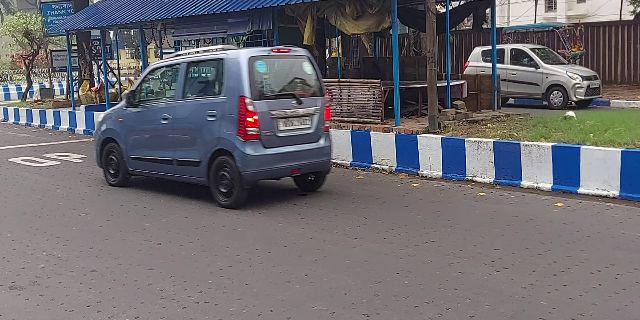Car: (93, 43, 342, 204)
